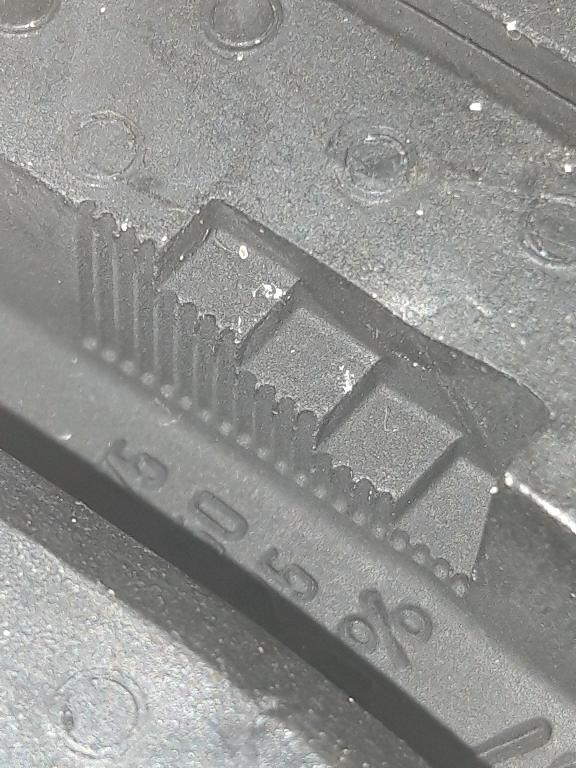temoin:100: (82, 188, 553, 604)
